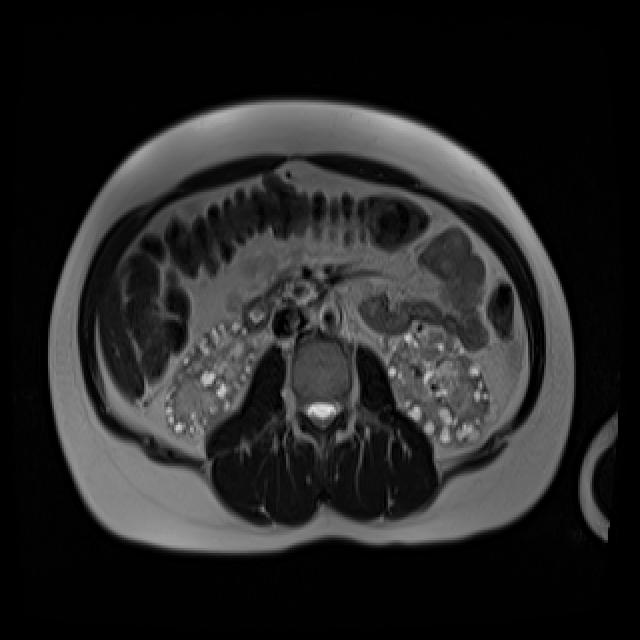sag: (161, 318, 270, 445)
sol: (385, 317, 495, 451)
